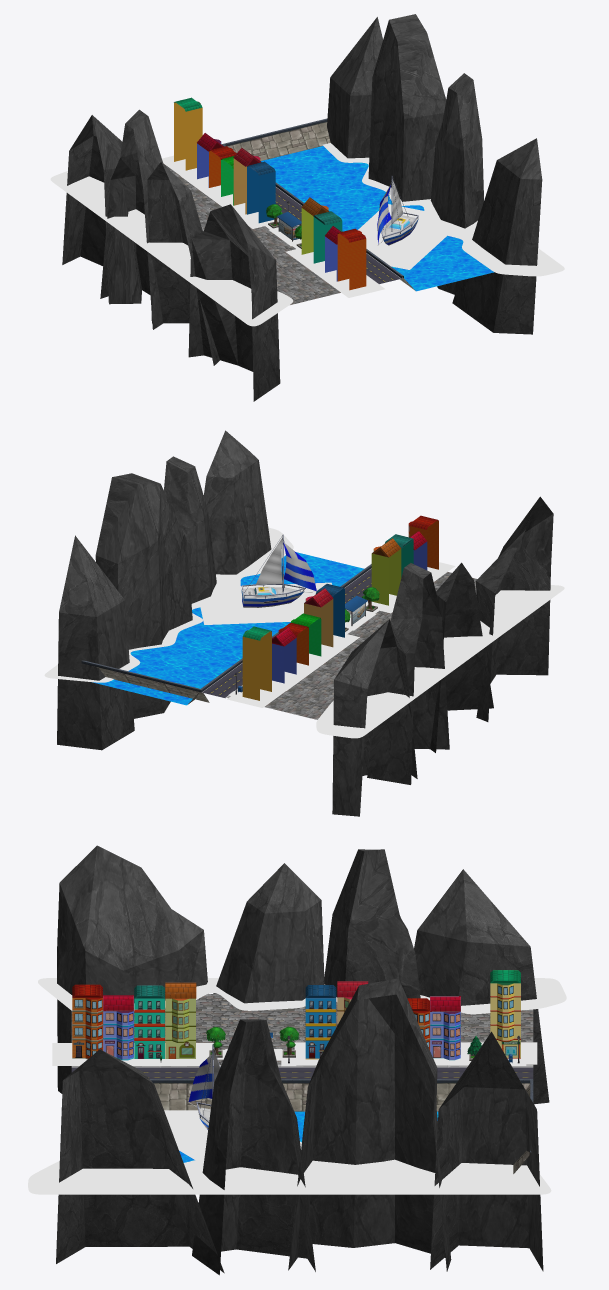
Rendered from City_10.fbx.
3 views of the same model, one above another, from view 1: azimuth 30°, elevation 25°; view 2: azimuth 150°, elevation 25°; view 3: azimuth 270°, elevation 25° (orthographic). The views are drawn at different scales.
Visible parts, largest first — view 1: City_10; view 2: City_10; view 3: City_10.
Part boxes in pixels (x1,y1,x2,y2): City_10: (50, 14, 564, 401); City_10: (44, 430, 564, 816); City_10: (28, 845, 566, 1275).
Bounding box in the file's own units: 22617 × 13384 × 25170.
